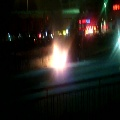fire: (48, 44, 67, 70)
